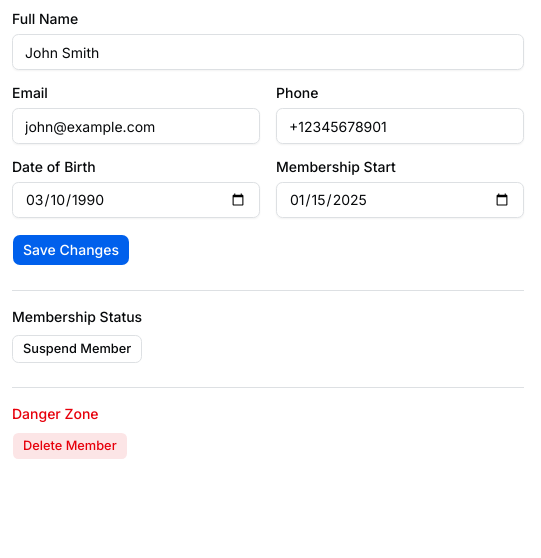
Test case: EditMemberForm › editMemberForm_futureDateOfBirth_showsPastDateErrorAndDoesNotCallUpdate
In the date field labelled "Date of Birth": (136, 200) [12, 182, 260, 218], type "2999-01-01"
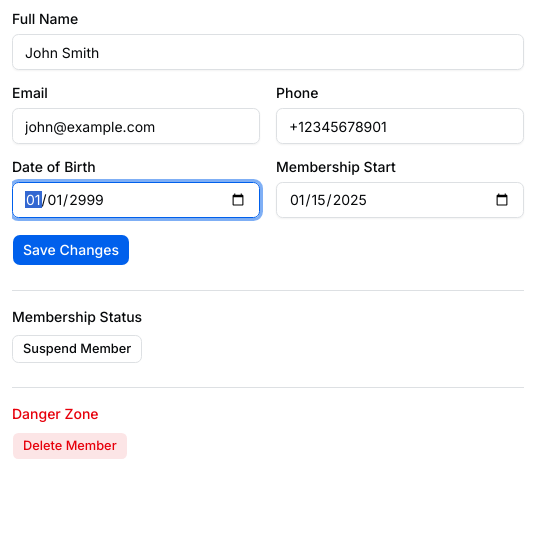
Click the button "Save Changes": (71, 250) [12, 234, 130, 266]
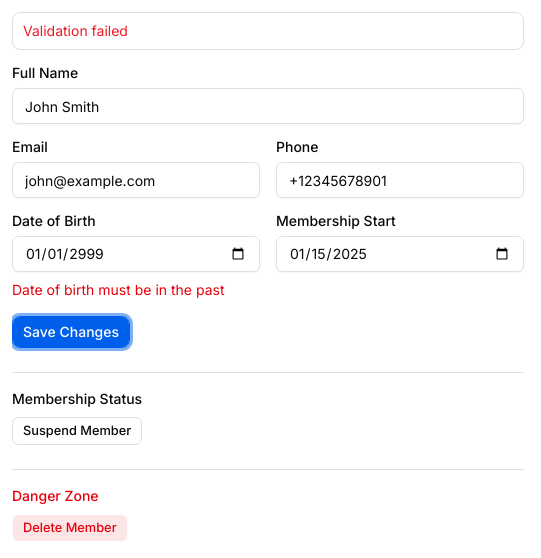
Expected: the text "Date of birth must be in the past" is shown, [12, 280, 260, 300]
